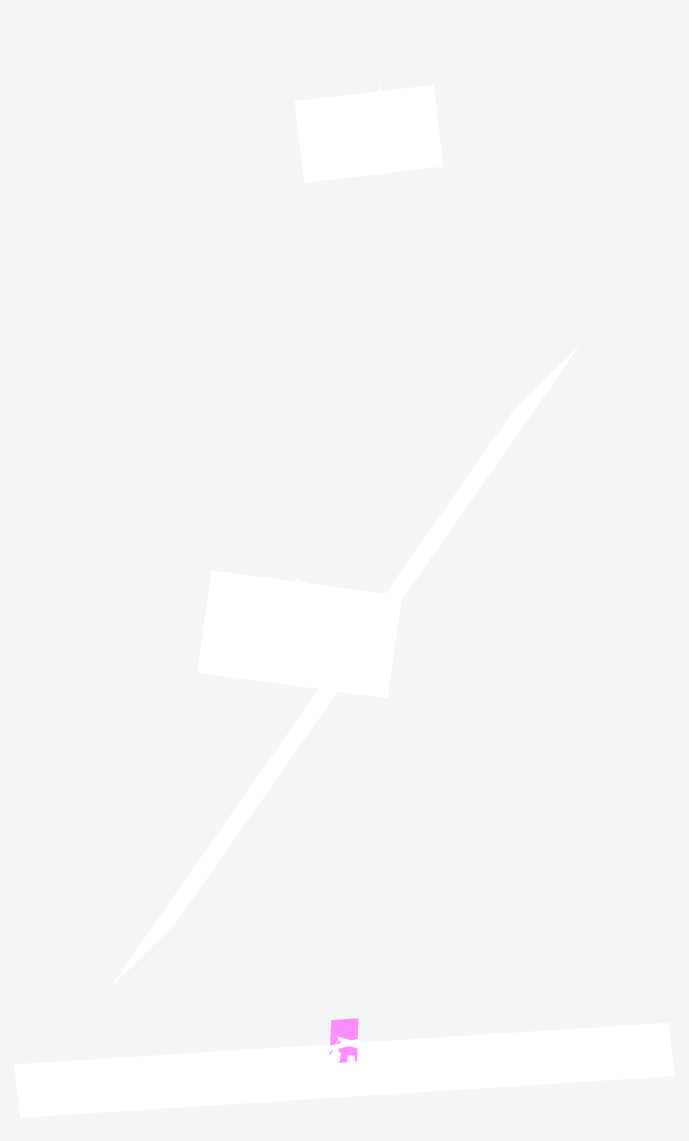
Rendered from aPBhICIQRrndUTh.gltf.
The picture shows the model from 3 angles, top to bottom: view 1: azimuth 30°, elevation 25°; view 2: azimuth 150°, elevation 25°; view 3: azimuth 270°, elevation 25°; orthographic projection. The views are drawn at different scales.
Parts seen in each view (by area): view 1: PbDunwtHBLeXuqN, vfStZZankDWYcUA; view 2: GFLfYWnSCxyWtXq, ewrXrypEFDEvjdZ, OsprSIHBakFPvgi, NCzMZvwoHqeycQh; view 3: ewrXrypEFDEvjdZ, SJloktjJTzgfDqD, DIiAGNXqCSnkGML, PTJnFXfPpivOseT.
Boxes of the visible parts, left/top/right/bottom form: PbDunwtHBLeXuqN: left=294, top=85, right=443, bottom=182; vfStZZankDWYcUA: left=358, top=84, right=380, bottom=166; GFLfYWnSCxyWtXq: left=197, top=570, right=401, bottom=698; ewrXrypEFDEvjdZ: left=109, top=345, right=579, bottom=988; OsprSIHBakFPvgi: left=277, top=581, right=367, bottom=650; NCzMZvwoHqeycQh: left=287, top=587, right=356, bottom=632; ewrXrypEFDEvjdZ: left=14, top=1023, right=674, bottom=1117; SJloktjJTzgfDqD: left=330, top=1018, right=358, bottom=1062; DIiAGNXqCSnkGML: left=337, top=1036, right=381, bottom=1054; PTJnFXfPpivOseT: left=322, top=1037, right=361, bottom=1052.
Size of what is drawn, in the model's own units: 139 by 65.96 by 501.
